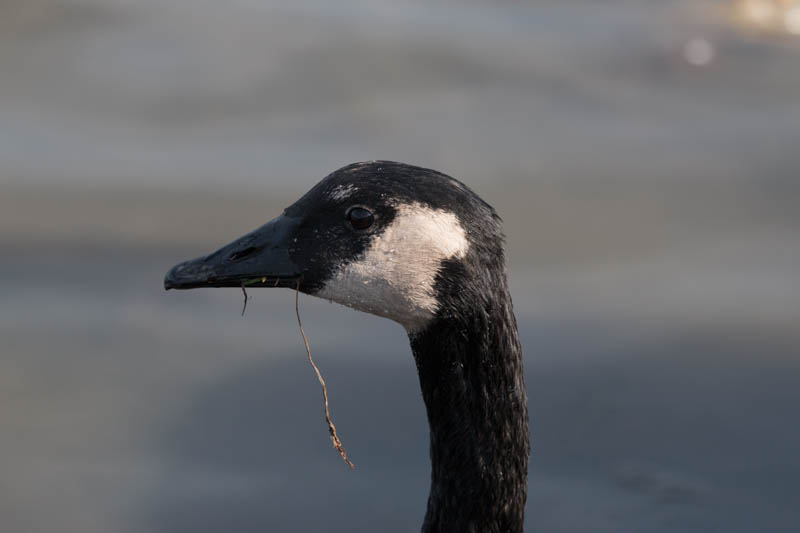goose-head: (164, 160, 519, 341)
